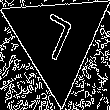L_SW: (34, 10, 80, 69)
